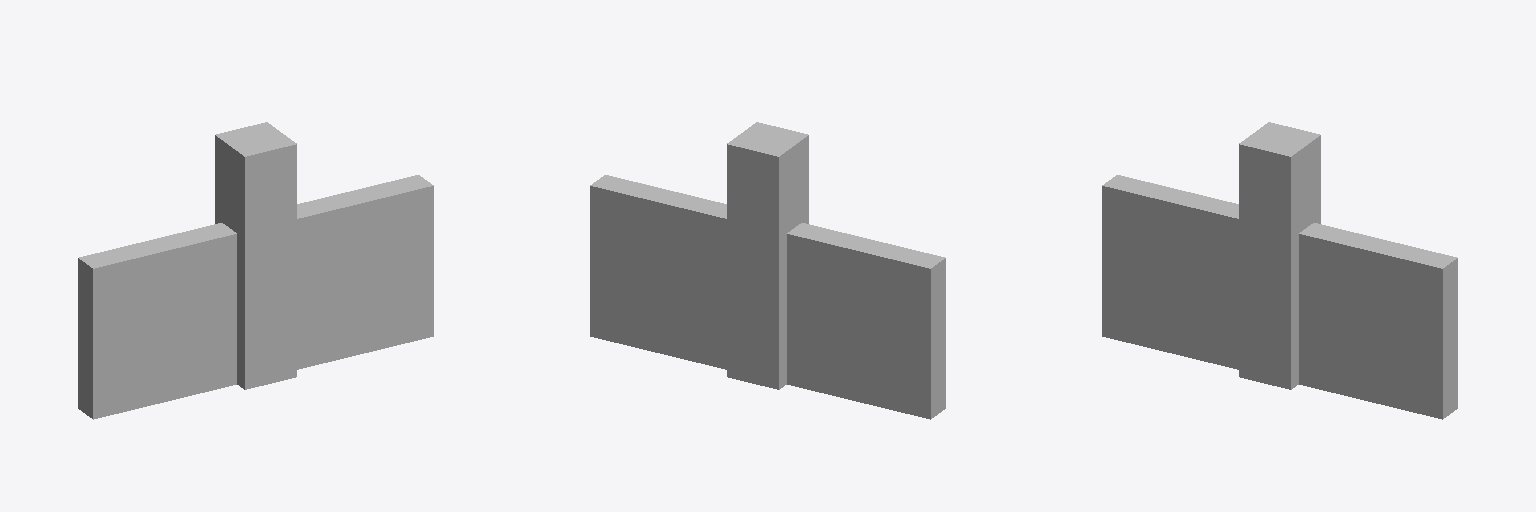
Rendered from mixer_agitator.obj.
3 renders of one model, left to right at view 1: azimuth 30°, elevation 25°; view 2: azimuth 150°, elevation 25°; view 3: azimuth 330°, elevation 25°, orthographic.
Visible parts, largest first — view 1: mixer, shaft; view 2: mixer, shaft; view 3: mixer, shaft.
Part boxes in pixels (bbox=[...]): mixer: bbox=[78, 175, 433, 419]; shaft: bbox=[215, 122, 296, 389]; mixer: bbox=[590, 175, 945, 419]; shaft: bbox=[727, 122, 808, 389]; mixer: bbox=[1102, 175, 1457, 419]; shaft: bbox=[1239, 122, 1320, 389].
Bounding box in the file's own units: 1.62 × 1.06 × 0.25.